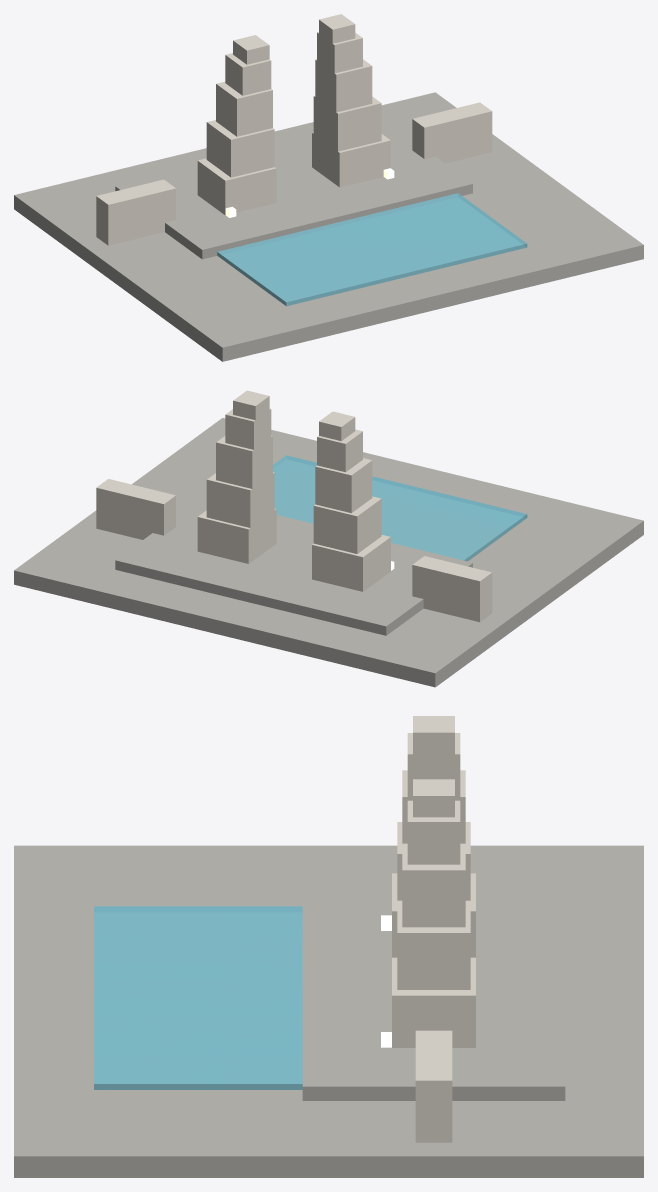
File: lm_34_cong_troi_bali_green_hills_gate.glb
3 renders of one model, top to bottom at view 1: azimuth 30°, elevation 25°; view 2: azimuth 150°, elevation 25°; view 3: azimuth 270°, elevation 25°, orthographic. The views are drawn at different scales.
Visible parts, largest first — view 1: lm_34_cong_troi_bali_green_hills_gate; view 2: lm_34_cong_troi_bali_green_hills_gate; view 3: lm_34_cong_troi_bali_green_hills_gate.
Part boxes in pixels (x1=…): lm_34_cong_troi_bali_green_hills_gate: x1=14, y1=14, x2=643, y2=361; lm_34_cong_troi_bali_green_hills_gate: x1=14, y1=390, x2=643, y2=687; lm_34_cong_troi_bali_green_hills_gate: x1=14, y1=716, x2=643, y2=1177.
Bounding box in the file's own units: 28 × 11.2 × 24.
